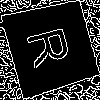R: (25, 22, 81, 69)
